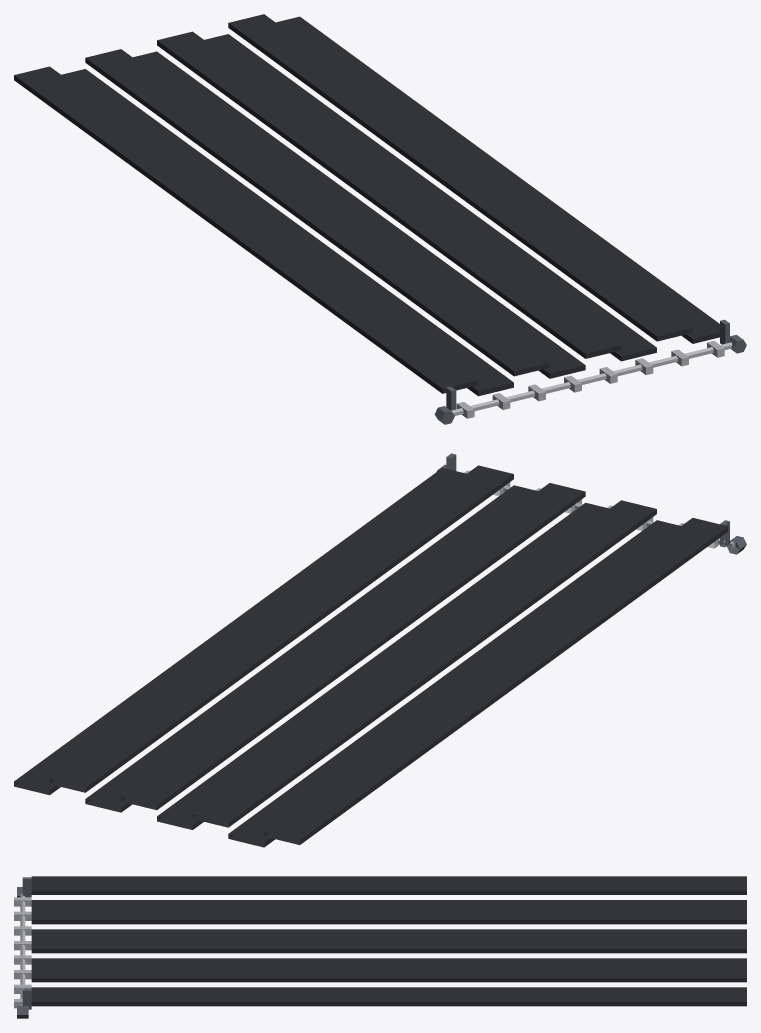
The model's file is c_curtain.obj.
3 views of the same model, one above another, from view 1: azimuth 30°, elevation 25°; view 2: azimuth 150°, elevation 25°; view 3: azimuth 270°, elevation 25° (orthographic). The views are drawn at different scales.
Size of the model in its own units: 1 by 0.0891 by 2.5.
1 material, 1 textured.
